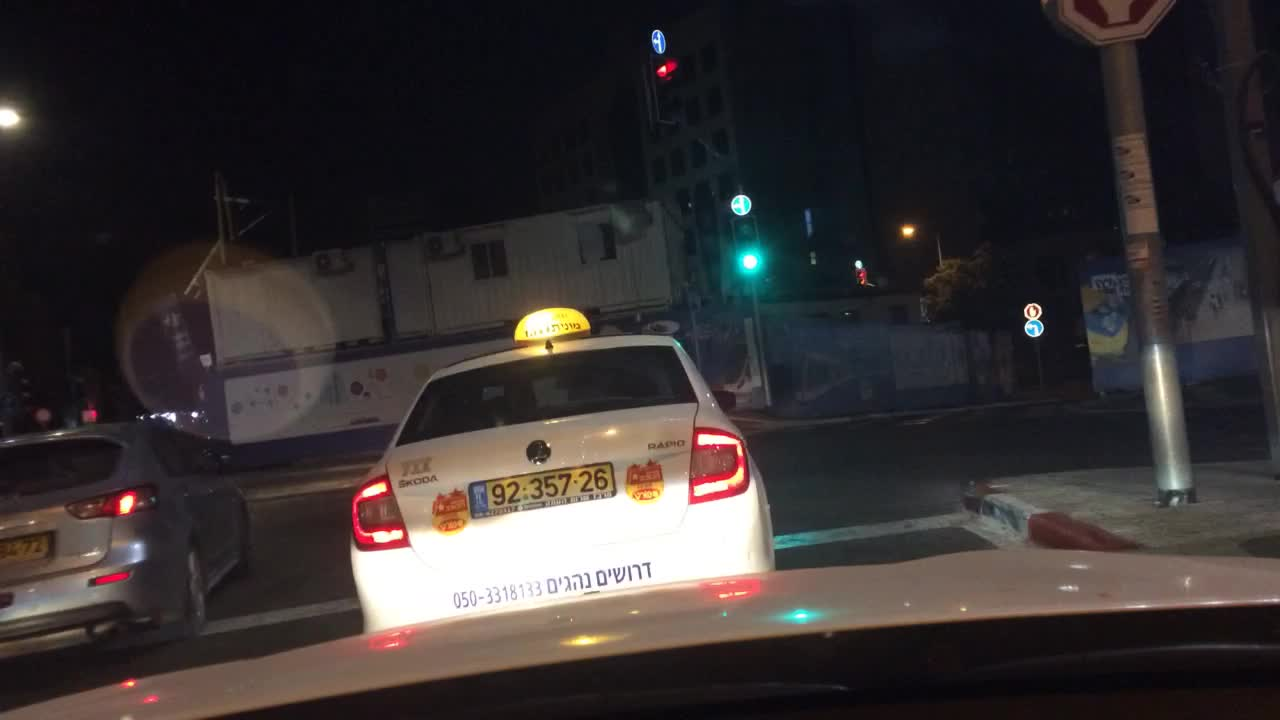car: (345, 303, 777, 634), (0, 415, 257, 663)
traffic light: (655, 57, 682, 125), (733, 217, 761, 276)
traffic sign: (1049, 0, 1174, 43), (729, 192, 752, 216), (651, 29, 668, 52), (1028, 320, 1042, 338), (1025, 303, 1040, 315)
